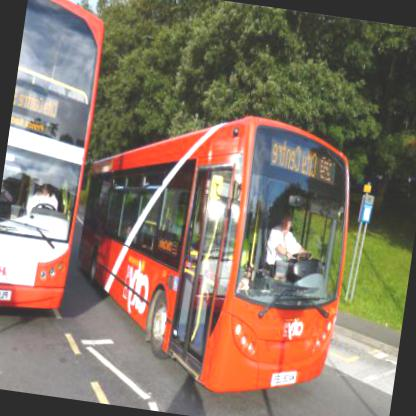bus: (62, 96, 364, 408), (0, 0, 116, 312)
